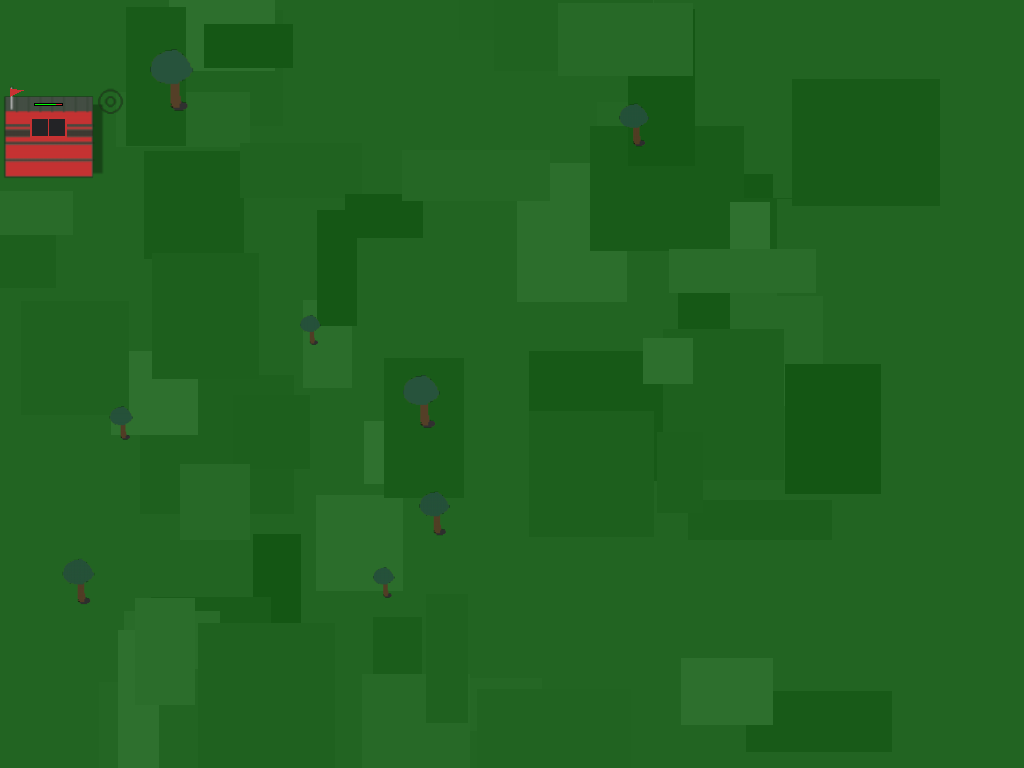APC_rus: (0, 47, 109, 156)
